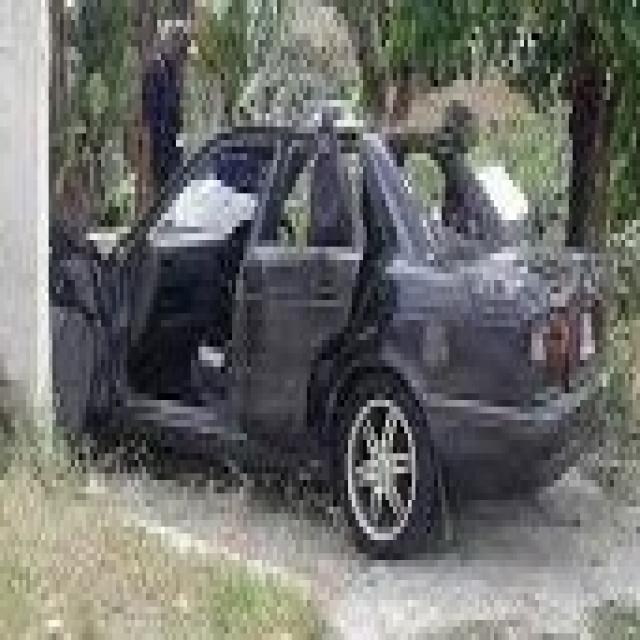severe: (56, 157, 627, 524)
